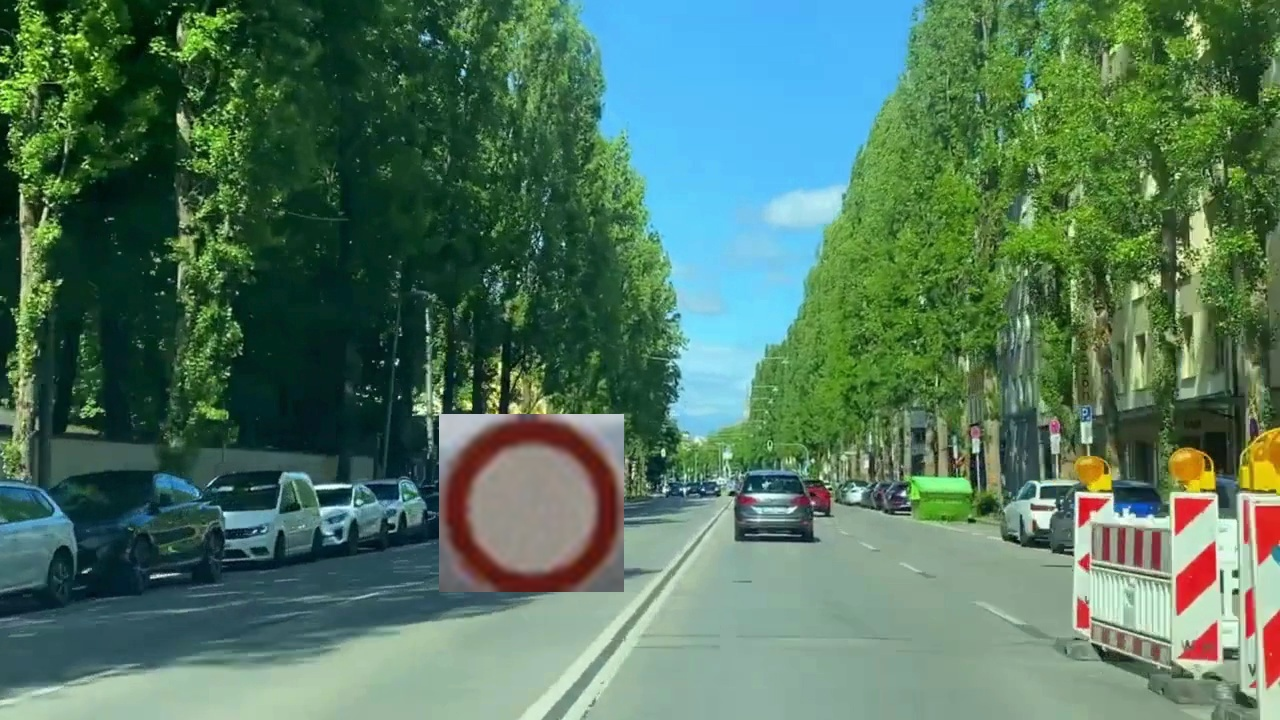No vehicles: (439, 414, 624, 592)
